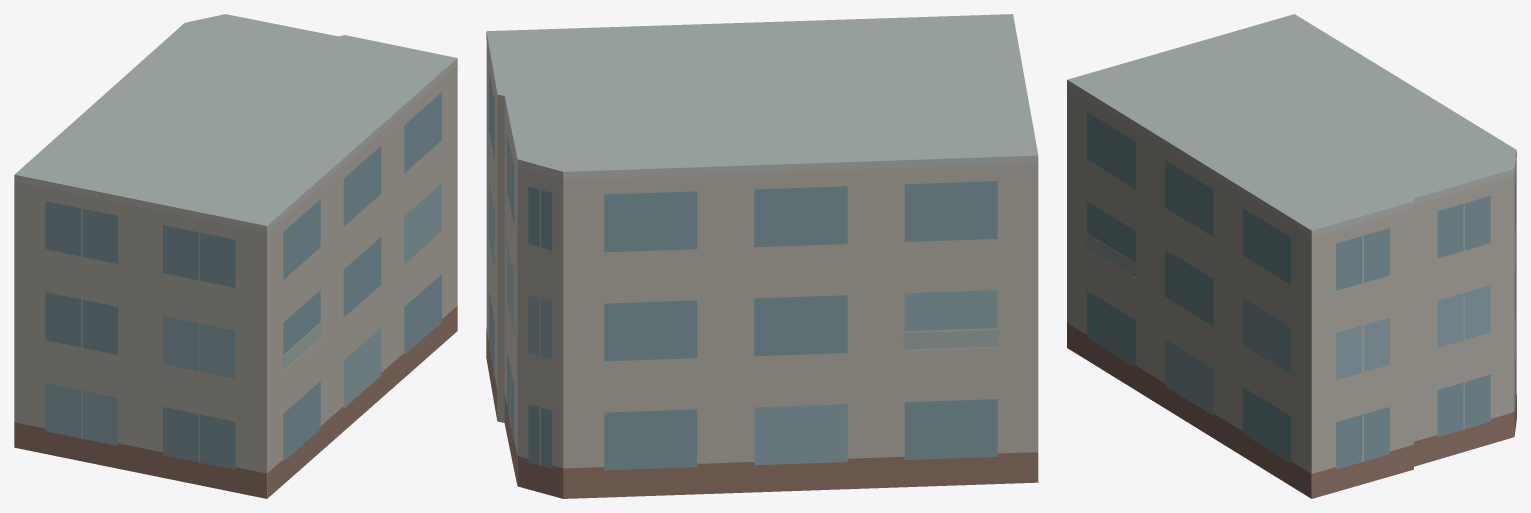
The model's file is survey-upis-32564358.glb.
3 renders of one model, left to right at view 1: azimuth 30°, elevation 25°; view 2: azimuth 150°, elevation 25°; view 3: azimuth 270°, elevation 25°, orthographic. The views are drawn at different scales.
Parts seen in each view (by area): view 1: survey-upis-32564358.tmp; view 2: survey-upis-32564358.tmp; view 3: survey-upis-32564358.tmp.
Boxes of the visible parts, left/top/right/bottom form: survey-upis-32564358.tmp: left=14, top=14, right=457, bottom=498; survey-upis-32564358.tmp: left=486, top=14, right=1038, bottom=498; survey-upis-32564358.tmp: left=1067, top=14, right=1516, bottom=498.
Bounding box in the file's own units: 17.86 × 10.3 × 15.66.
